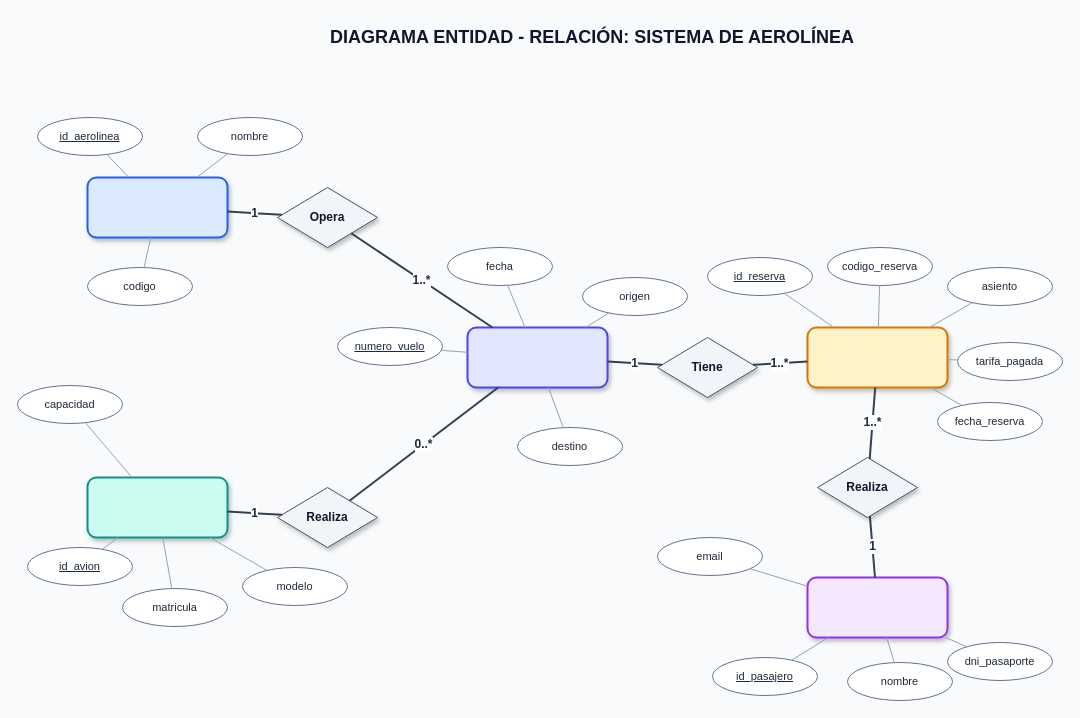
This 1080x718 diagram has some shape labels left out. The shapes that lost their labels are listed below. From the top down, each one's centre as x and y in pixels, then its label:
At (x=158, y=208): "AEROLÍNEA".
At (x=538, y=358): "VUELO".
At (x=878, y=358): "RESERVA".
At (x=158, y=508): "AVIÓN".
At (x=878, y=608): "PASAJERO".
